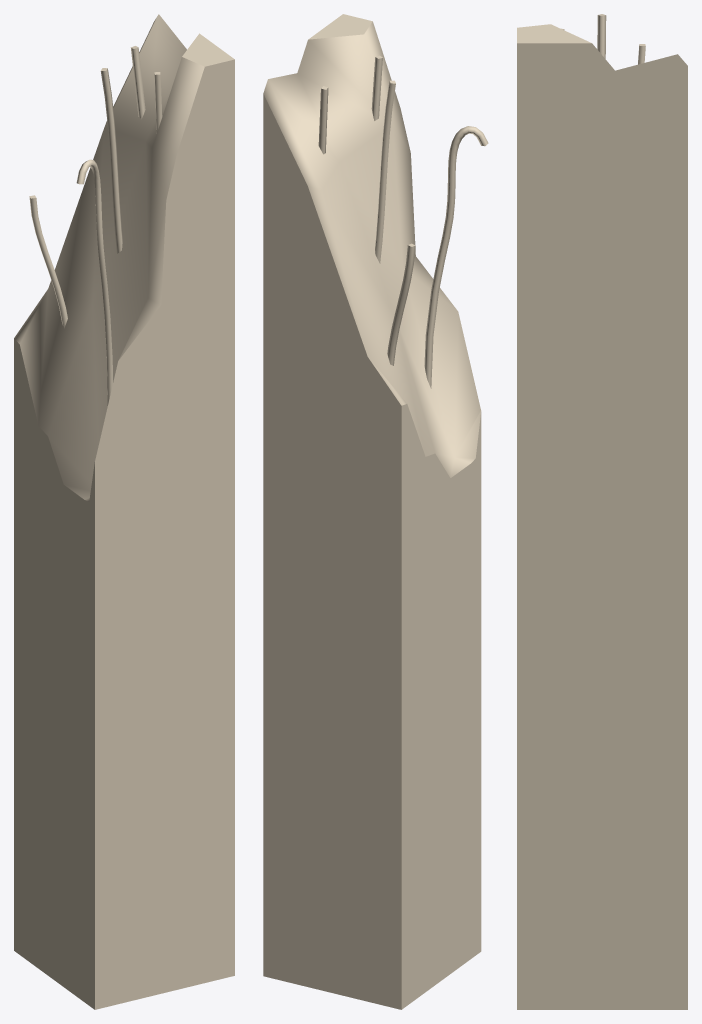
The model's file is ConcreteStack_02.fbx.
3 views of the same model, side by side, from view 1: azimuth 30°, elevation 25°; view 2: azimuth 150°, elevation 25°; view 3: azimuth 270°, elevation 25° (orthographic). The views are drawn at different scales.
Visible parts, largest first — view 1: Concrete_Stack_02_LOD0; view 2: Concrete_Stack_02_LOD0; view 3: Concrete_Stack_02_LOD0.
Part boxes in pixels (box(x1,y1,x2,y2)): Concrete_Stack_02_LOD0: box(14, 14, 234, 1009); Concrete_Stack_02_LOD0: box(263, 14, 488, 1009); Concrete_Stack_02_LOD0: box(517, 14, 687, 1009).
Size of what is drawn, in the model's own units: 0.4337 by 2.5 by 0.4.
